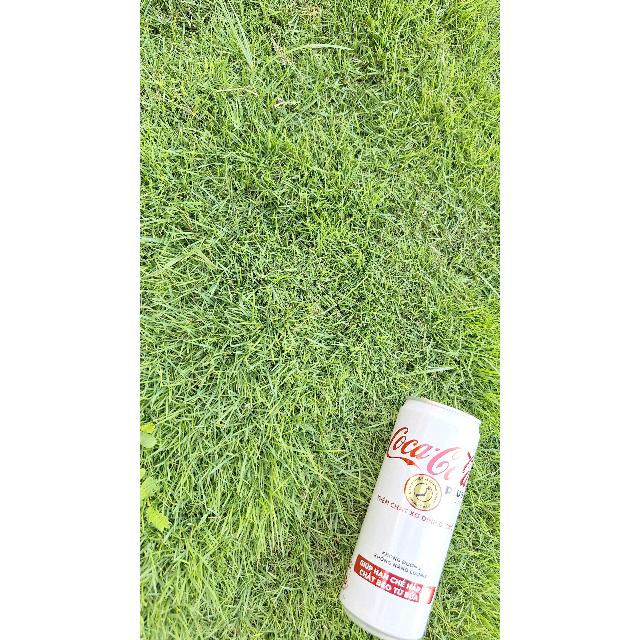Coca Cola Plus: (328, 404, 490, 640)
